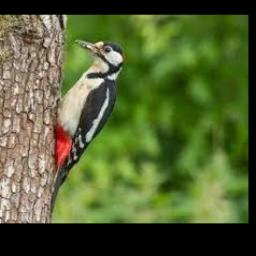Woodpecker: (49, 40, 125, 218)
